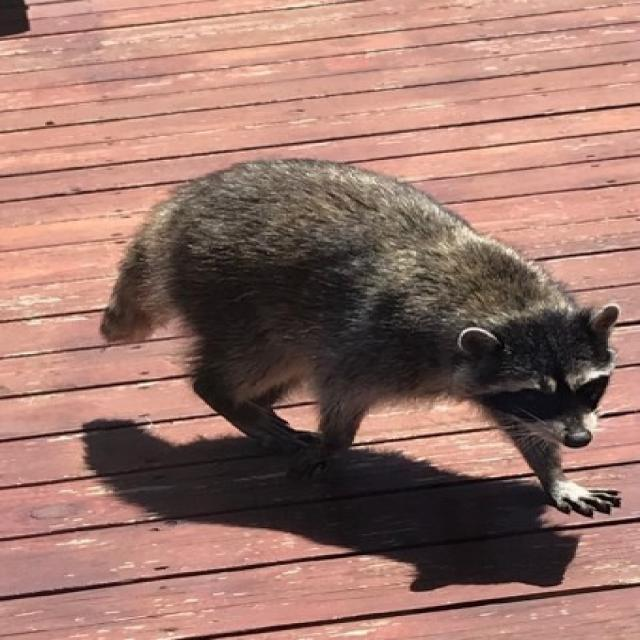racoon: (90, 170, 637, 538)
